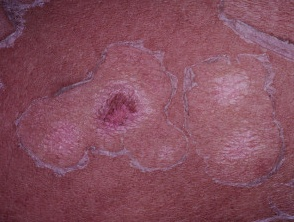SJS-TEN: (22, 42, 167, 162), (177, 57, 288, 190)
